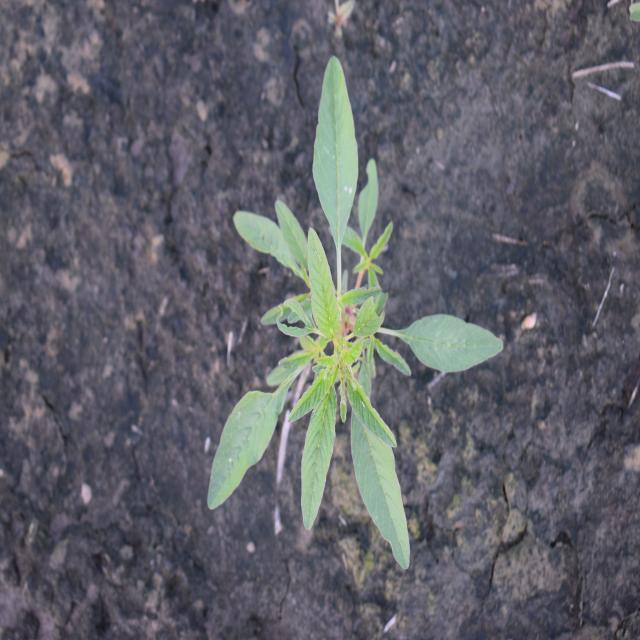Waterhemp: (205, 51, 505, 572)
